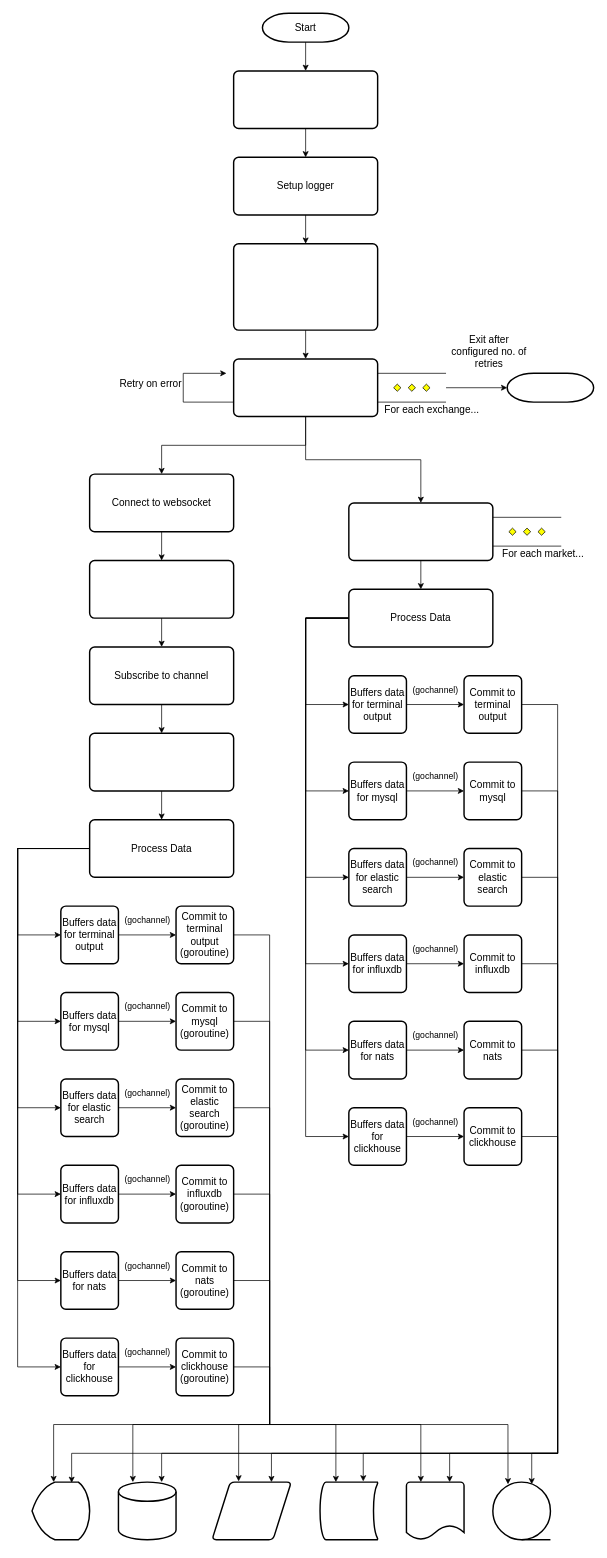
This 607x1558 diagram has some shape labels left out. Here are the shapes that lost their labels. From the top down, the centre of each, then its label:
At point (305, 99): "Load config file".
At point (305, 286): "Setup terminal, mysql, elastic search, influxdb, nats and clickhouse connections".
At point (305, 387): "Start exchange (goroutine)".
At point (550, 387): "End".
At point (420, 531): "REST GET for data (goroutine)".
At point (161, 588): "Ping / Pong setup (goroutine)".
At point (161, 761): "Read data (goroutine)".
At point (60, 1510): "Terminal".
At point (146, 1510): "MySQL".
At point (251, 1510): "Elastic Search".
At point (348, 1510): "InfluxDB".
At point (434, 1510): "NATS".
At point (521, 1510): "ClickHouse".
